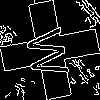W: (25, 25, 79, 80)
